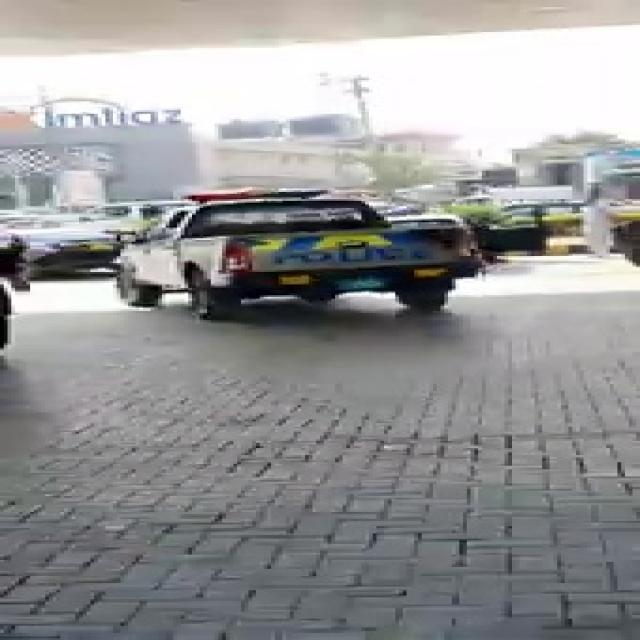police: (68, 165, 550, 324)
